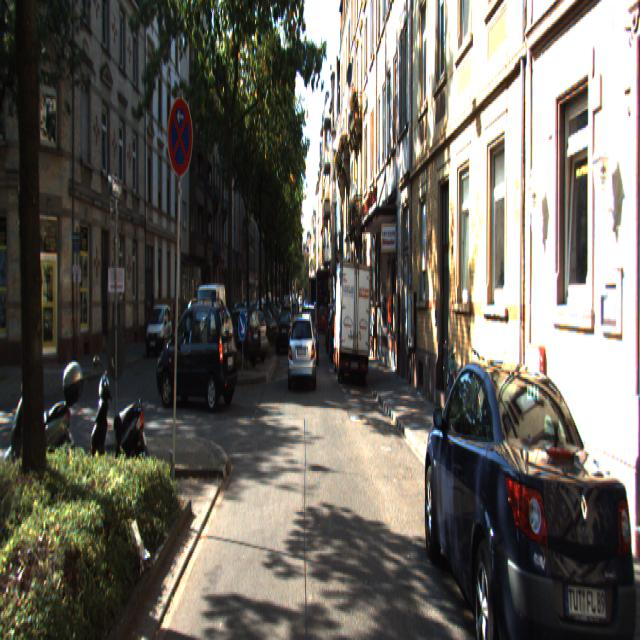Car: (418, 338, 640, 638), (3, 342, 91, 513), (89, 346, 156, 511), (155, 306, 239, 422), (332, 257, 372, 380), (214, 304, 264, 368), (288, 314, 317, 393), (227, 309, 268, 362), (298, 304, 318, 365), (276, 306, 294, 349)
